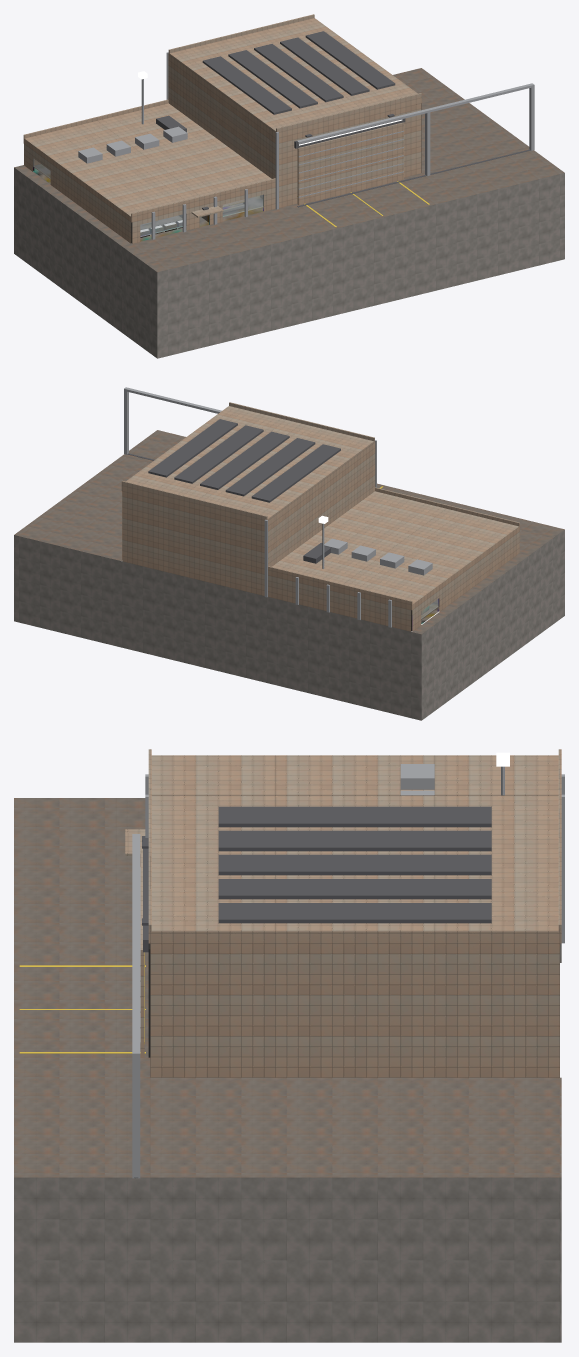
Rendered from mf-annex-512.glb.
3 views of the same model, one above another, from view 1: azimuth 30°, elevation 25°; view 2: azimuth 150°, elevation 25°; view 3: azimuth 270°, elevation 25° (orthographic). The views are drawn at different scales.
Parts seen in each view (by area): view 1: mf_ext, mf_hangar_door, mf_int, mf_glass_panes; view 2: mf_ext; view 3: mf_ext, mf_hangar_door.
Part boxes in pixels (x1=…): mf_ext: x1=14, y1=14, x2=564, y2=358; mf_hangar_door: x1=297, y1=122, x2=403, y2=204; mf_int: x1=33, y1=158, x2=263, y2=243; mf_glass_panes: x1=33, y1=159, x2=263, y2=236; mf_ext: x1=14, y1=387, x2=564, y2=720; mf_ext: x1=14, y1=749, x2=564, y2=1342; mf_hangar_door: x1=140, y1=851, x2=144, y2=1057.
Bounding box in the file's own units: 141 × 54.82 × 86.24.
Materials: 8 (3 with a texture image).
